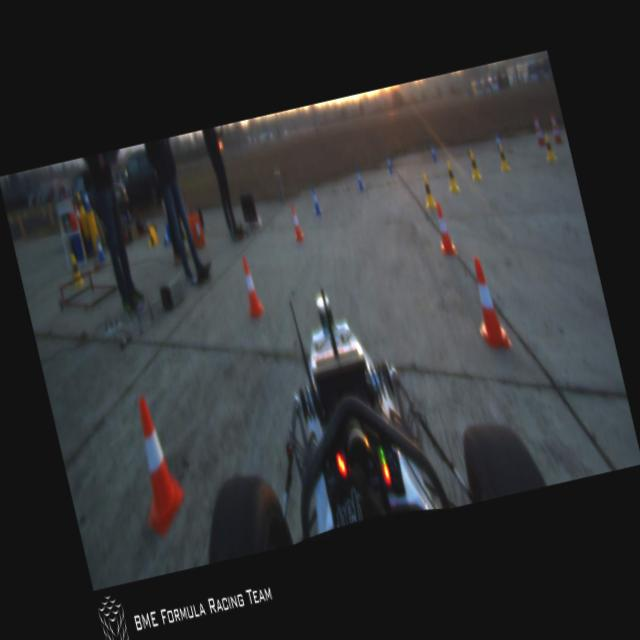blue_cone: (158, 222, 174, 248), (309, 187, 322, 215), (93, 235, 106, 263), (80, 190, 92, 212), (354, 167, 364, 191), (493, 132, 503, 151), (384, 154, 393, 174), (429, 144, 438, 162)
large_orange_cone: (547, 110, 563, 146), (530, 112, 546, 148)
orange_cone: (120, 391, 192, 538), (463, 254, 512, 352), (237, 256, 265, 318), (431, 200, 456, 256), (288, 203, 304, 240)
yellow_cone: (418, 172, 436, 208), (443, 158, 460, 192), (68, 252, 84, 286), (466, 150, 482, 181), (541, 133, 557, 163), (496, 144, 509, 172), (144, 225, 158, 248), (75, 192, 86, 216)
